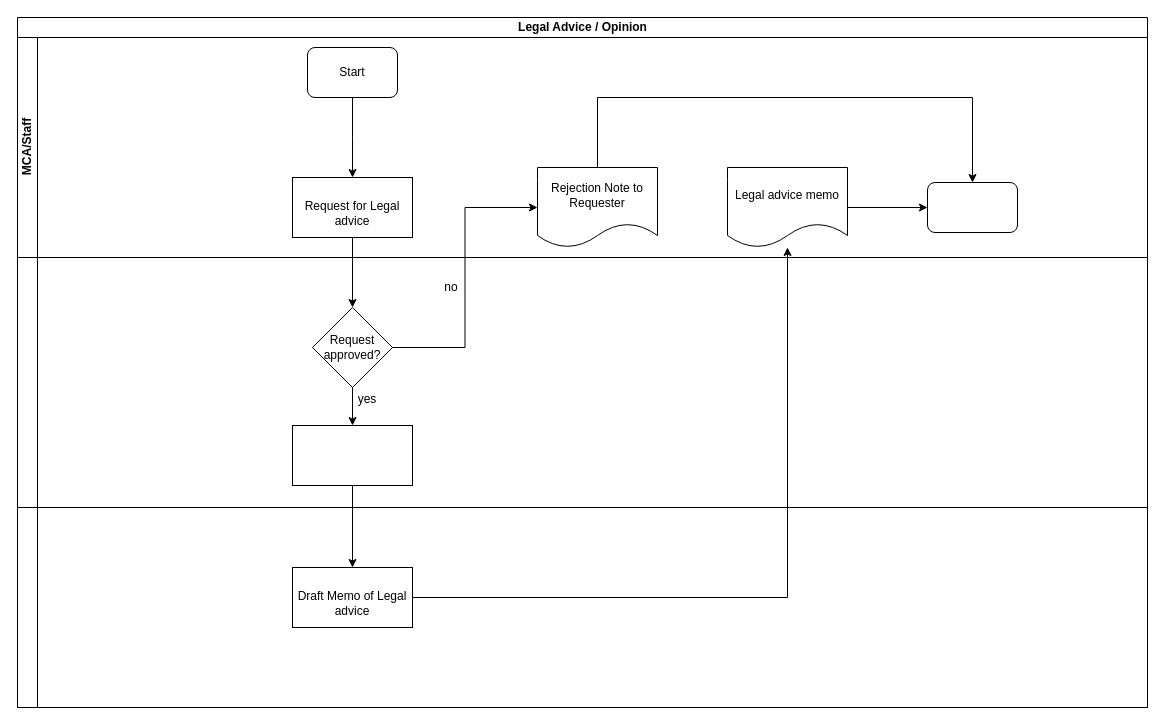
This 1165x725 diagram has some shape labels left out. Each missing label, with the box of its shape:
Clerk: (16, 256, 1148, 508)
End: (926, 182, 1018, 232)
Legal counsel: (16, 506, 1148, 708)
Notify Legal Counsel: (292, 424, 412, 486)
